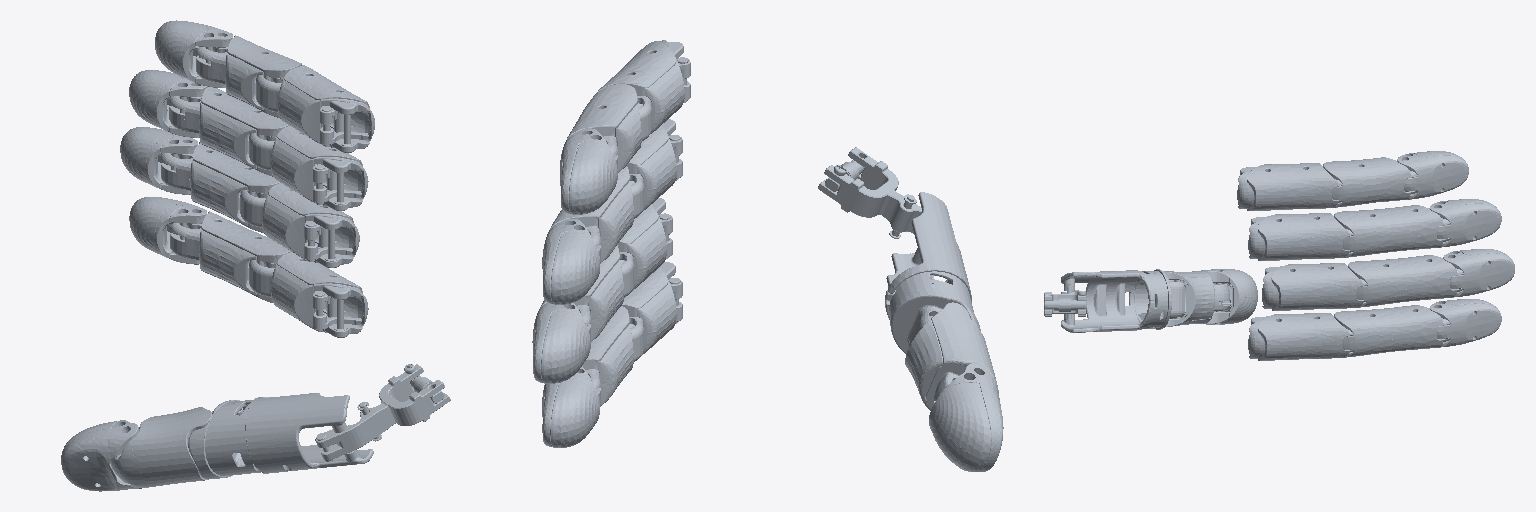
robot.urdf — telehand_lite:
<?xml version="1.0" encoding="UTF-8"?>
<robot name="telehand_lite">
  <material name="hand_default">
    <color rgba="0.75 0.78 0.82 1" />
  </material>
  <link name="index_dip">
    <inertial>
      <origin xyz="0.00604685486016 0.011344729318 -4.67120683929e-05" rpy="0 0 0" />
      <mass value="0.00616173" />
      <inertia ixx="3.36420850123e-07" ixy="6.34524548342e-09" ixz="-2.02832433889e-10" iyy="1.79501995306e-07" iyz="-2.02200574241e-10" izz="2.91722254571e-07" />
    </inertial>
    <visual>
      <origin xyz="0 0 0" rpy="0 0 0" />
      <geometry>
        <mesh filename="./meshes/index_dip.stl" scale="1 1 1" />
      </geometry>
      <material name="hand_default" />
    </visual>
    <collision>
      <origin xyz="0 0 0" rpy="0 0 0" />
      <geometry>
        <mesh filename="./meshes/collision/index_dip_col.stl" scale="1 1 1" />
      </geometry>
    </collision>
  </link>
  <link name="index_mcp">
    <inertial>
      <origin xyz="0.00175547727416 0.016846113298 1.85238020925e-05" rpy="0 0 0" />
      <mass value="0.00681996" />
      <inertia ixx="9.94881365009e-07" ixy="2.49195441999e-09" ixz="9.06744129695e-10" iyy="2.94813202389e-07" iyz="3.61674596044e-09" izz="9.91841632602e-07" />
    </inertial>
    <visual>
      <origin xyz="0 0 0" rpy="0 0 0" />
      <geometry>
        <mesh filename="./meshes/index_mcp.stl" scale="1 1 1" />
      </geometry>
      <material name="hand_default" />
    </visual>
    <collision>
      <origin xyz="0 0 0" rpy="0 0 0" />
      <geometry>
        <mesh filename="./meshes/collision/index_mcp_col.stl" scale="1 1 1" />
      </geometry>
    </collision>
  </link>
  <link name="index_pip">
    <inertial>
      <origin xyz="0.00403696917802 0.0167808180879 5.43411555914e-05" rpy="0 0 0" />
      <mass value="0.00646839" />
      <inertia ixx="1.04555395359e-06" ixy="-6.77804570683e-08" ixz="-2.0108192235e-10" iyy="2.70083723459e-07" iyz="2.63377972016e-09" izz="1.03513642295e-06" />
    </inertial>
    <visual>
      <origin xyz="0 0 0" rpy="0 0 0" />
      <geometry>
        <mesh filename="./meshes/index_pip.stl" scale="1 1 1" />
      </geometry>
      <material name="hand_default" />
    </visual>
    <collision>
      <origin xyz="0 0 0" rpy="0 0 0" />
      <geometry>
        <mesh filename="./meshes/collision/index_pip_col.stl" scale="1 1 1" />
      </geometry>
    </collision>
  </link>
  <link name="middle_dip">
    <inertial>
      <origin xyz="0.00620211732929 0.0113608064862 -5.08687577259e-05" rpy="0 0 0" />
      <mass value="0.00616173" />
      <inertia ixx="3.36327949994e-07" ixy="7.39186121817e-09" ixz="-3.06428278664e-10" iyy="1.79593621655e-07" iyz="-1.92301469937e-10" izz="2.91723528351e-07" />
    </inertial>
    <visual>
      <origin xyz="0 0 0" rpy="0 0 0" />
      <geometry>
        <mesh filename="./meshes/middle_dip.stl" scale="1 1 1" />
      </geometry>
      <material name="hand_default" />
    </visual>
    <collision>
      <origin xyz="0 0 0" rpy="0 0 0" />
      <geometry>
        <mesh filename="./meshes/collision/middle_dip_col.stl" scale="1 1 1" />
      </geometry>
    </collision>
  </link>
  <link name="middle_mcp">
    <inertial>
      <origin xyz="0.00176203994773 0.0168428376249 1.99495940316e-05" rpy="0 0 0" />
      <mass value="0.00681996" />
      <inertia ixx="9.94883368958e-07" ixy="2.12996884337e-09" ixz="9.0909977786e-10" iyy="2.94811327534e-07" iyz="3.66561323919e-09" izz="9.91841503509e-07" />
    </inertial>
    <visual>
      <origin xyz="0 0 0" rpy="0 0 0" />
      <geometry>
        <mesh filename="./meshes/middle_mcp.stl" scale="1 1 1" />
      </geometry>
      <material name="hand_default" />
    </visual>
    <collision>
      <origin xyz="0 0 0" rpy="0 0 0" />
      <geometry>
        <mesh filename="./meshes/collision/middle_mcp_col.stl" scale="1 1 1" />
      </geometry>
    </collision>
  </link>
  <link name="middle_pip">
    <inertial>
      <origin xyz="0.0041391088361 0.0167606001934 5.40669752944e-05" rpy="0 0 0" />
      <mass value="0.00646839" />
      <inertia ixx="1.04460246447e-06" ixy="-7.30188802035e-08" ixz="-1.91769620102e-10" iyy="2.71034365817e-07" iyz="2.3818251974e-09" izz="1.03513726971e-06" />
    </inertial>
    <visual>
      <origin xyz="0 0 0" rpy="0 0 0" />
      <geometry>
        <mesh filename="./meshes/middle_pip.stl" scale="1 1 1" />
      </geometry>
      <material name="hand_default" />
    </visual>
    <collision>
      <origin xyz="0 0 0" rpy="0 0 0" />
      <geometry>
        <mesh filename="./meshes/collision/middle_pip_col.stl" scale="1 1 1" />
      </geometry>
    </collision>
  </link>
  <link name="pinky_dip">
    <inertial>
      <origin xyz="0.00617295616938 0.011448876671 -4.96953875521e-05" rpy="0 0 0" />
      <mass value="0.00616173" />
      <inertia ixx="3.36313533915e-07" ixy="7.54245204749e-09" ixz="-3.13601493567e-10" iyy="1.79607822513e-07" iyz="-1.36816042975e-10" izz="2.91723743573e-07" />
    </inertial>
    <visual>
      <origin xyz="0 0 0" rpy="0 0 0" />
      <geometry>
        <mesh filename="./meshes/pinky_dip.stl" scale="1 1 1" />
      </geometry>
      <material name="hand_default" />
    </visual>
    <collision>
      <origin xyz="0 0 0" rpy="0 0 0" />
      <geometry>
        <mesh filename="./meshes/collision/pinky_dip_col.stl" scale="1 1 1" />
      </geometry>
    </collision>
  </link>
  <link name="pinky_mcp">
    <inertial>
      <origin xyz="0.00175286915213 0.0168487356949 2.30491658164e-05" rpy="0 0 0" />
      <mass value="0.00681996" />
      <inertia ixx="9.94879001904e-07" ixy="2.04132017084e-09" ixz="9.17767820548e-10" iyy="2.94810100989e-07" iyz="3.59846964131e-09" izz="9.91847097107e-07" />
    </inertial>
    <visual>
      <origin xyz="0 0 0" rpy="0 0 0" />
      <geometry>
        <mesh filename="./meshes/pinky_mcp.stl" scale="1 1 1" />
      </geometry>
      <material name="hand_default" />
    </visual>
    <collision>
      <origin xyz="0 0 0" rpy="0 0 0" />
      <geometry>
        <mesh filename="./meshes/collision/pinky_mcp_col.stl" scale="1 1 1" />
      </geometry>
    </collision>
  </link>
  <link name="pinky_pip">
    <inertial>
      <origin xyz="0.00415258330154 0.0167682660142 5.47307421955e-05" rpy="0 0 0" />
      <mass value="0.00646839" />
      <inertia ixx="1.04461755561e-06" ixy="-7.29451419849e-08" ixz="-2.0393296224e-10" iyy="2.71018301721e-07" iyz="2.00342167544e-09" izz="1.03513824267e-06" />
    </inertial>
    <visual>
      <origin xyz="0 0 0" rpy="0 0 0" />
      <geometry>
        <mesh filename="./meshes/pinky_pip.stl" scale="1 1 1" />
      </geometry>
      <material name="hand_default" />
    </visual>
    <collision>
      <origin xyz="0 0 0" rpy="0 0 0" />
      <geometry>
        <mesh filename="./meshes/collision/pinky_pip_col.stl" scale="1 1 1" />
      </geometry>
    </collision>
  </link>
  <link name="ring_dip">
    <inertial>
      <origin xyz="0.00616786501617 0.0113315410354 -3.42806820395e-05" rpy="0 0 0" />
      <mass value="0.00616173" />
      <inertia ixx="3.36290447337e-07" ixy="7.78744936457e-09" ixz="-2.47511872626e-10" iyy="1.79631681167e-07" iyz="-6.18625982668e-11" izz="2.91722971496e-07" />
    </inertial>
    <visual>
      <origin xyz="0 0 0" rpy="0 0 0" />
      <geometry>
        <mesh filename="./meshes/ring_dip.stl" scale="1 1 1" />
      </geometry>
      <material name="hand_default" />
    </visual>
    <collision>
      <origin xyz="0 0 0" rpy="0 0 0" />
      <geometry>
        <mesh filename="./meshes/collision/ring_dip_col.stl" scale="1 1 1" />
      </geometry>
    </collision>
  </link>
  <link name="ring_mcp">
    <inertial>
      <origin xyz="0.00178172469671 0.0168320013445 1.68286557964e-05" rpy="0 0 0" />
      <mass value="0.00681996" />
      <inertia ixx="9.94874433848e-07" ixy="3.2979996022e-09" ixz="9.03437548238e-10" iyy="2.94818949409e-07" iyz="3.5279932413e-09" izz="9.91842816743e-07" />
    </inertial>
    <visual>
      <origin xyz="0 0 0" rpy="0 0 0" />
      <geometry>
        <mesh filename="./meshes/ring_mcp.stl" scale="1 1 1" />
      </geometry>
      <material name="hand_default" />
    </visual>
    <collision>
      <origin xyz="0 0 0" rpy="0 0 0" />
      <geometry>
        <mesh filename="./meshes/collision/ring_mcp_col.stl" scale="1 1 1" />
      </geometry>
    </collision>
  </link>
  <link name="ring_pip">
    <inertial>
      <origin xyz="0.00413728094134 0.0167445187925 5.02743244776e-05" rpy="0 0 0" />
      <mass value="0.00646839" />
      <inertia ixx="1.0446224387e-06" ixy="-7.29055553406e-08" ixz="-1.95216904439e-10" iyy="2.71014611766e-07" iyz="2.63154727204e-09" izz="1.03513704953e-06" />
    </inertial>
    <visual>
      <origin xyz="0 0 0" rpy="0 0 0" />
      <geometry>
        <mesh filename="./meshes/ring_pip.stl" scale="1 1 1" />
      </geometry>
      <material name="hand_default" />
    </visual>
    <collision>
      <origin xyz="0 0 0" rpy="0 0 0" />
      <geometry>
        <mesh filename="./meshes/collision/ring_pip_col.stl" scale="1 1 1" />
      </geometry>
    </collision>
  </link>
  <link name="root">
    <inertial>
      <origin xyz="-0.00152116092 0.00233726624 0.0104906054" rpy="0 0 0" />
      <mass value="0.250248578" />
      <inertia ixx="0.000250164433243" ixy="2.4441676066e-06" ixz="-1.98309153724e-08" iyy="0.00014066388361" iyz="9.56696032301e-06" izz="0.000138381883147" />
    </inertial>
    <visual>
      <origin xyz="0 0 0" rpy="0 0 0" />
      <geometry>
        <mesh filename="./meshes/root.stl" scale="1 1 1" />
      </geometry>
      <material name="hand_default" />
    </visual>
    <visual>
      <origin xyz="0 0 0" rpy="0 0 0" />
      <geometry>
        <mesh filename="./meshes/root_vis1.stl" scale="1 1 1" />
      </geometry>
      <material name="hand_default" />
    </visual>
    <collision>
      <origin xyz="0 0 0" rpy="0 0 0" />
      <geometry>
        <mesh filename="./meshes/collision/root_col0.stl" scale="1 1 1" />
      </geometry>
    </collision>
    <collision>
      <origin xyz="0 0 0" rpy="0 0 0" />
      <geometry>
        <mesh filename="./meshes/collision/root_col1.stl" scale="1 1 1" />
      </geometry>
    </collision>
    <collision>
      <origin xyz="0 0 0" rpy="0 0 0" />
      <geometry>
        <mesh filename="./meshes/collision/root_col2.stl" scale="1 1 1" />
      </geometry>
    </collision>
    <collision>
      <origin xyz="0 0 0" rpy="0 0 0" />
      <geometry>
        <mesh filename="./meshes/collision/root_col3.stl" scale="1 1 1" />
      </geometry>
    </collision>
    <collision>
      <origin xyz="0 0 0" rpy="0 0 0" />
      <geometry>
        <mesh filename="./meshes/collision/root_col4.stl" scale="1 1 1" />
      </geometry>
    </collision>
    <collision>
      <origin xyz="0 0 0" rpy="0 0 0" />
      <geometry>
        <mesh filename="./meshes/collision/root_col5.stl" scale="1 1 1" />
      </geometry>
    </collision>
    <collision>
      <origin xyz="0 0 0" rpy="0 0 0" />
      <geometry>
        <mesh filename="./meshes/collision/root_col6.stl" scale="1 1 1" />
      </geometry>
    </collision>
    <collision>
      <origin xyz="0 0 0" rpy="0 0 0" />
      <geometry>
        <mesh filename="./meshes/collision/root_col7.stl" scale="1 1 1" />
      </geometry>
    </collision>
    <collision>
      <origin xyz="0 0 0" rpy="0 0 0" />
      <geometry>
        <mesh filename="./meshes/collision/root_col8.stl" scale="1 1 1" />
      </geometry>
    </collision>
    <collision>
      <origin xyz="0 0 0" rpy="0 0 0" />
      <geometry>
        <mesh filename="./meshes/collision/root_col9.stl" scale="1 1 1" />
      </geometry>
    </collision>
    <collision>
      <origin xyz="0 0 0" rpy="0 0 0" />
      <geometry>
        <mesh filename="./meshes/collision/root_col10.stl" scale="1 1 1" />
      </geometry>
    </collision>
    <collision>
      <origin xyz="0 0 0" rpy="0 0 0" />
      <geometry>
        <mesh filename="./meshes/collision/root_col11.stl" scale="1 1 1" />
      </geometry>
    </collision>
    <collision>
      <origin xyz="0 0 0" rpy="0 0 0" />
      <geometry>
        <mesh filename="./meshes/collision/root_col12.stl" scale="1 1 1" />
      </geometry>
    </collision>
    <collision>
      <origin xyz="0 0 0" rpy="0 0 0" />
      <geometry>
        <mesh filename="./meshes/collision/root_col13.stl" scale="1 1 1" />
      </geometry>
    </collision>
    <collision>
      <origin xyz="0 0 0" rpy="0 0 0" />
      <geometry>
        <mesh filename="./meshes/collision/root_col14.stl" scale="1 1 1" />
      </geometry>
    </collision>
    <collision>
      <origin xyz="0 0 0" rpy="0 0 0" />
      <geometry>
        <mesh filename="./meshes/collision/root_col15.stl" scale="1 1 1" />
      </geometry>
    </collision>
    <collision>
      <origin xyz="0 0 0" rpy="0 0 0" />
      <geometry>
        <mesh filename="./meshes/collision/root_col16.stl" scale="1 1 1" />
      </geometry>
    </collision>
    <collision>
      <origin xyz="0 0 0" rpy="0 0 0" />
      <geometry>
        <mesh filename="./meshes/collision/root_col17.stl" scale="1 1 1" />
      </geometry>
    </collision>
    <collision>
      <origin xyz="0 0 0" rpy="0 0 0" />
      <geometry>
        <mesh filename="./meshes/collision/root_col18.stl" scale="1 1 1" />
      </geometry>
    </collision>
    <collision>
      <origin xyz="0 0 0" rpy="0 0 0" />
      <geometry>
        <mesh filename="./meshes/collision/root_col19.stl" scale="1 1 1" />
      </geometry>
    </collision>
    <collision>
      <origin xyz="0 0 0" rpy="0 0 0" />
      <geometry>
        <mesh filename="./meshes/collision/root_col20.stl" scale="1 1 1" />
      </geometry>
    </collision>
    <collision>
      <origin xyz="0 0 0" rpy="0 0 0" />
      <geometry>
        <mesh filename="./meshes/collision/root_col21.stl" scale="1 1 1" />
      </geometry>
    </collision>
    <collision>
      <origin xyz="0 0 0" rpy="0 0 0" />
      <geometry>
        <mesh filename="./meshes/collision/root_col22.stl" scale="1 1 1" />
      </geometry>
    </collision>
    <collision>
      <origin xyz="0 0 0" rpy="0 0 0" />
      <geometry>
        <mesh filename="./meshes/collision/root_col23.stl" scale="1 1 1" />
      </geometry>
    </collision>
  </link>
  <link name="thumb_flex">
    <inertial>
      <origin xyz="0.000411813564762 0.0138591003429 9.83365891652e-05" rpy="0 0 0" />
      <mass value="0.00705345" />
      <inertia ixx="7.60269107866e-07" ixy="4.85997303176e-08" ixz="4.52563117373e-10" iyy="4.43413494662e-07" iyz="-2.19679404353e-09" izz="6.82265297472e-07" />
    </inertial>
    <visual>
      <origin xyz="0 0 0" rpy="0 0 0" />
      <geometry>
        <mesh filename="./meshes/thumb_flex.stl" scale="1 1 1" />
      </geometry>
      <material name="hand_default" />
    </visual>
    <collision>
      <origin xyz="0 0 0" rpy="0 0 0" />
      <geometry>
        <mesh filename="./meshes/collision/thumb_flex_col.stl" scale="1 1 1" />
      </geometry>
    </collision>
  </link>
  <link name="thumb_ip">
    <inertial>
      <origin xyz="0.000605763675585 0.010608583622 -1.58246524895e-05" rpy="0 0 0" />
      <mass value="0.0082014" />
      <inertia ixx="5.34841471853e-07" ixy="1.76423054634e-08" ixz="1.62566740652e-10" iyy="3.7191790007e-07" iyz="6.65773886244e-11" izz="3.99912228077e-07" />
    </inertial>
    <visual>
      <origin xyz="0 0 0" rpy="0 0 0" />
      <geometry>
        <mesh filename="./meshes/thumb_ip.stl" scale="1 1 1" />
      </geometry>
      <material name="hand_default" />
    </visual>
    <collision>
      <origin xyz="0 0 0" rpy="0 0 0" />
      <geometry>
        <mesh filename="./meshes/collision/thumb_ip_col.stl" scale="1 1 1" />
      </geometry>
    </collision>
  </link>
  <link name="thumb_rot">
    <inertial>
      <origin xyz="0.00536166139005 0.0140357772142 0.000222743644618" rpy="0 0 0" />
      <mass value="0.04975618" />
      <inertia ixx="8.11557204166e-06" ixy="9.99997148397e-07" ixz="-9.77734373173e-10" iyy="2.0636016495e-06" iyz="-8.81928687341e-08" izz="7.56117530884e-06" />
    </inertial>
    <visual>
      <origin xyz="0 0 0" rpy="0 0 0" />
      <geometry>
        <mesh filename="./meshes/thumb_rot.stl" scale="1 1 1" />
      </geometry>
      <material name="hand_default" />
    </visual>
    <collision>
      <origin xyz="0 0 0" rpy="0 0 0" />
      <geometry>
        <mesh filename="./meshes/collision/thumb_rot_col.stl" scale="1 1 1" />
      </geometry>
    </collision>
    <collision>
      <origin xyz="0 0 0" rpy="0 0 0" />
      <geometry>
        <mesh filename="./meshes/collision/thumb_rot_col_thumb_web.stl" scale="1 1 1" />
      </geometry>
    </collision>
  </link>
  <link name="thumb_swing">
    <inertial>
      <origin xyz="-0.013842709 0.0194773142 -0.00593631668" rpy="0 0 0" />
      <mass value="0.00211662768" />
      <inertia ixx="4.43236993015e-08" ixy="5.33009305118e-09" ixz="-7.74777308761e-08" iyy="2.49003624637e-07" iyz="2.33442339038e-09" izz="2.17639906062e-07" />
    </inertial>
    <visual>
      <origin xyz="0 0 0" rpy="0 0 0" />
      <geometry>
        <mesh filename="./meshes/thumb_swing.stl" scale="1 1 1" />
      </geometry>
      <material name="hand_default" />
    </visual>
    <collision>
      <origin xyz="0 0 0" rpy="0 0 0" />
      <geometry>
        <mesh filename="./meshes/collision/thumb_swing_col.stl" scale="1 1 1" />
      </geometry>
    </collision>
  </link>
  <joint name="index_dip" type="revolute">
    <parent link="index_pip" />
    <child link="index_dip" />
    <origin xyz="0 0.0344245342448 -4.02340649946e-21" rpy="0.000460137274624 7.10423520029e-06 0.011428140536" />
    <axis xyz="0 0 1" />
    <limit lower="0.000000" upper="1.570796" effort="10" velocity="10" />
  </joint>
  <joint name="index_mcp" type="revolute">
    <parent link="root" />
    <child link="index_mcp" />
    <origin xyz="-0.000659016327115 0.0389864481242 -0.0199799990106" rpy="-0.000181603091002 -0.000353886893504 0.0892247251881" />
    <axis xyz="0 0 1" />
    <limit lower="0.000000" upper="1.570796" effort="10" velocity="10" />
  </joint>
  <joint name="index_pip" type="revolute">
    <parent link="index_mcp" />
    <child link="index_pip" />
    <origin xyz="-4.33680868994e-19 0.0318934728218 1.27054942088e-21" rpy="0.000687940896364 -7.38750306622e-06 0.110995170508" />
    <axis xyz="0 0 1" />
    <limit lower="0.000000" upper="1.570796" effort="10" velocity="10" />
  </joint>
  <joint name="middle_dip" type="revolute">
    <parent link="middle_pip" />
    <child link="middle_dip" />
    <origin xyz="-8.67361737988e-19 0.0344245303008 1.27054942088e-21" rpy="0.00104256705105 2.40139568255e-05 0.0605813633166" />
    <axis xyz="0 0 1" />
    <limit lower="0.000000" upper="1.570796" effort="10" velocity="10" />
  </joint>
  <joint name="middle_mcp" type="revolute">
    <parent link="root" />
    <child link="middle_mcp" />
    <origin xyz="-0.000665291119676 0.0439881064169 1.99995258559e-05" rpy="-6.45619429029e-05 -0.000353791591981 0.0900530321906" />
    <axis xyz="0 0 1" />
    <limit lower="0.000000" upper="1.570796" effort="10" velocity="10" />
  </joint>
  <joint name="middle_pip" type="revolute">
    <parent link="middle_mcp" />
    <child link="middle_pip" />
    <origin xyz="0 0.0318934659077 2.11758236814e-22" rpy="0.000346312137113 5.66771278098e-06 0.11215576228" />
    <axis xyz="0 0 1" />
    <limit lower="0.000000" upper="1.570796" effort="10" velocity="10" />
  </joint>
  <joint name="pinky_dip" type="revolute">
    <parent link="pinky_pip" />
    <child link="pinky_dip" />
    <origin xyz="-8.67361737988e-19 0.0264244436276 -4.23516473627e-22" rpy="0.00104974888685 5.59508833458e-06 0.0125406969209" />
    <axis xyz="0 0 1" />
    <limit lower="0.000000" upper="1.570796" effort="10" velocity="10" />
  </joint>
  <joint name="pinky_mcp" type="revolute">
    <parent link="root" />
    <child link="pinky_mcp" />
    <origin xyz="-0.000671427119753 0.0349812833641 0.0400199997658" rpy="8.74488039275e-05 -0.000353814562369 0.0898535794225" />
    <axis xyz="0 0 1" />
    <limit lower="0.000000" upper="1.308997" effort="10" velocity="10" />
  </joint>
  <joint name="pinky_pip" type="revolute">
    <parent link="pinky_mcp" />
    <child link="pinky_pip" />
    <origin xyz="-4.33680868994e-19 0.0319039189093 -1.4823076577e-21" rpy="-0.000180125487641 2.08503804587e-05 0.103106474514" />
    <axis xyz="0 0 1" />
    <limit lower="0.000000" upper="1.570796" effort="10" velocity="10" />
  </joint>
  <joint name="ring_dip" type="revolute">
    <parent link="ring_pip" />
    <child link="ring_dip" />
    <origin xyz="-8.67361737988e-19 0.0344245278124 -4.23516473627e-22" rpy="0.00143597571879 1.23897715966e-06 0.0109747632859" />
    <axis xyz="0 0 1" />
    <limit lower="0.000000" upper="1.570796" effort="10" velocity="10" />
  </joint>
  <joint name="ring_mcp" type="revolute">
    <parent link="root" />
    <child link="ring_mcp" />
    <origin xyz="-0.000663389087017 0.0389796249278 0.0200199801061" rpy="-0.000192621047839 -0.000353767992565 0.0902578196838" />
    <axis xyz="0 0 1" />
    <limit lower="0.000000" upper="1.570796" effort="10" velocity="10" />
  </joint>
  <joint name="ring_pip" type="revolute">
    <parent link="ring_mcp" />
    <child link="ring_pip" />
    <origin xyz="0 0.0319039183501 2.11758236814e-22" rpy="0.00018976130661 -8.60814228906e-06 0.111524628225" />
    <axis xyz="0 0 1" />
    <limit lower="0.000000" upper="1.570796" effort="10" velocity="10" />
  </joint>
  <joint name="thumb_flex" type="continuous">
    <parent link="thumb_rot" />
    <child link="thumb_flex" />
    <origin xyz="3.46944695195e-18 0.0431856596182 -1.73472347598e-18" rpy="0.00211498684341 -0.000142944318936 0.179419466666" />
    <axis xyz="0 0 1" />
  </joint>
  <joint name="thumb_ip" type="continuous">
    <parent link="thumb_flex" />
    <child link="thumb_ip" />
    <origin xyz="-1.73472347598e-18 0.0230868075427 -8.67361737988e-19" rpy="0.0119712324031 -8.13999882653e-06 -0.00613495932144" />
    <axis xyz="0 0 1" />
  </joint>
  <joint name="thumb_rot" type="revolute">
    <parent link="thumb_swing" />
    <child link="thumb_rot" />
    <origin xyz="-0.0256460391164 0.0205830328735 -0.0107214948618" rpy="-0.245388245478 -0.314036138574 0.679192024174" />
    <axis xyz="0 0 1" />
    <limit lower="-0.610865" upper="0.000000" effort="10" velocity="10" />
  </joint>
  <joint name="thumb_swing" type="revolute">
    <parent link="root" />
    <child link="thumb_swing" />
    <origin xyz="-0.0129689261501 -0.0499995784136 -0.0127762271411" rpy="0 -0 0" />
    <axis xyz="0 1 0" />
    <limit lower="-0.785398" upper="0.959931" effort="10" velocity="10" />
  </joint>
</robot>

--- Render facts (derived) ---
Views: 3 orthographic renders of the robot side by side, from view 1: azimuth 30°, elevation 25°; view 2: azimuth 150°, elevation 25°; view 3: azimuth 270°, elevation 25°.
Robot: telehand_lite — 17 links, 16 joints (14 revolute, 2 continuous); root link root; default pose: every joint at zero.
Links seen in each view (by area): view 1: thumb_rot, pinky_mcp, index_mcp, ring_mcp, middle_mcp, thumb_flex, index_pip, thumb_swing, ring_pip, middle_pip, pinky_pip, thumb_ip (+4 smaller); view 2: thumb_rot, thumb_ip, thumb_flex, thumb_swing, pinky_mcp, ring_dip, pinky_dip, middle_dip, index_mcp, index_dip, pinky_pip, ring_mcp (+4 smaller); view 3: thumb_rot, middle_mcp, pinky_mcp, ring_mcp, index_mcp, ring_pip, index_pip, middle_pip, pinky_pip, ring_dip, index_dip, middle_dip (+4 smaller).
Link boxes in pixels (left/top/right/bottom): thumb_rot: left=188, top=393, right=373, bottom=478; pinky_mcp: left=256, top=65, right=374, bottom=152; index_mcp: left=249, top=252, right=368, bottom=337; ring_mcp: left=249, top=126, right=368, bottom=210; middle_mcp: left=240, top=183, right=359, bottom=267; thumb_flex: left=110, top=407, right=212, bottom=487; index_pip: left=170, top=211, right=291, bottom=302; thumb_swing: left=315, top=364, right=450, bottom=461; ring_pip: left=169, top=87, right=289, bottom=176; middle_pip: left=161, top=142, right=279, bottom=233; pinky_pip: left=196, top=35, right=301, bottom=118; thumb_ip: left=61, top=420, right=142, bottom=491; thumb_rot: left=885, top=192, right=980, bottom=353; thumb_ip: left=929, top=363, right=1003, bottom=471; thumb_flex: left=905, top=302, right=998, bottom=410; thumb_swing: left=818, top=147, right=921, bottom=238; pinky_mcp: left=598, top=40, right=690, bottom=140; ring_dip: left=542, top=219, right=599, bottom=304; pinky_dip: left=560, top=128, right=617, bottom=214; middle_dip: left=532, top=303, right=590, bottom=383; index_mcp: left=622, top=262, right=682, bottom=361; index_dip: left=542, top=366, right=599, bottom=447; pinky_pip: left=567, top=84, right=641, bottom=172; ring_mcp: left=627, top=119, right=682, bottom=218; thumb_rot: left=1061, top=269, right=1184, bottom=332; middle_mcp: left=1262, top=263, right=1367, bottom=310; pinky_mcp: left=1237, top=163, right=1342, bottom=210; ring_mcp: left=1248, top=213, right=1353, bottom=260; index_mcp: left=1248, top=313, right=1353, bottom=360; ring_pip: left=1334, top=205, right=1449, bottom=257; index_pip: left=1334, top=305, right=1449, bottom=357; middle_pip: left=1348, top=255, right=1463, bottom=307; pinky_pip: left=1323, top=157, right=1417, bottom=207; ring_dip: left=1430, top=199, right=1501, bottom=247; index_dip: left=1430, top=299, right=1501, bottom=347; middle_dip: left=1443, top=249, right=1514, bottom=297.
Size in the robot's own frame: 0.1046 by 0.1711 by 0.101 metres.
Meshes: 18 distinct files referenced, 16 mesh visuals loaded (16 binary STL); not drawn: 2 (reference not matched to a file when rendering).
